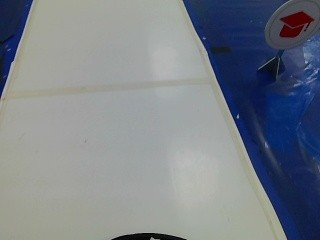school: (262, 0, 318, 52)
